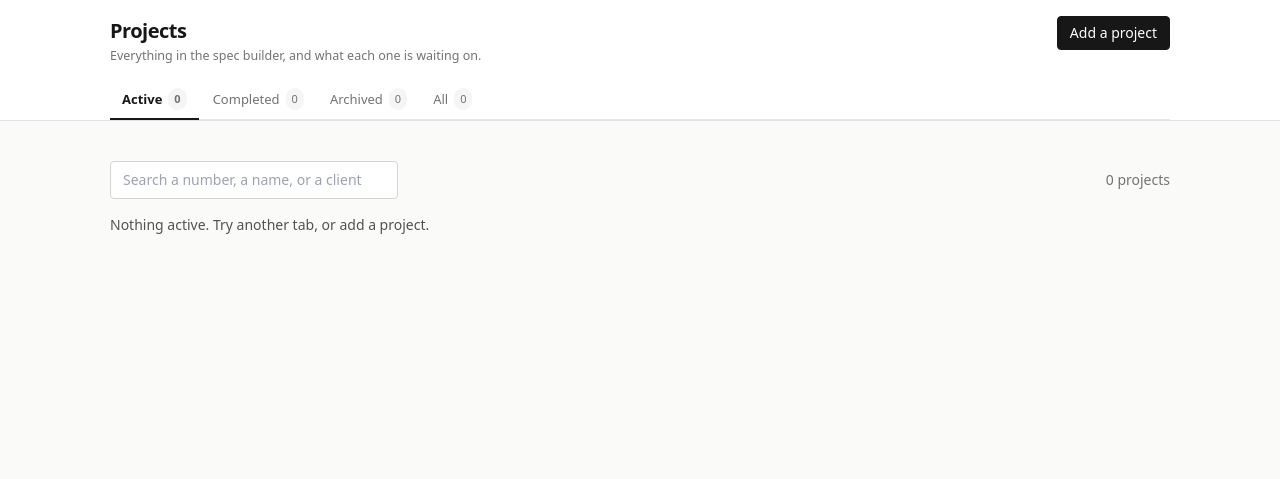
Scenario: Add project › stays, with the refusal in words and the form usable, when the project already exists
Click the button "Add a project".
click(1113, 33)  # box [1057,16,1170,50]
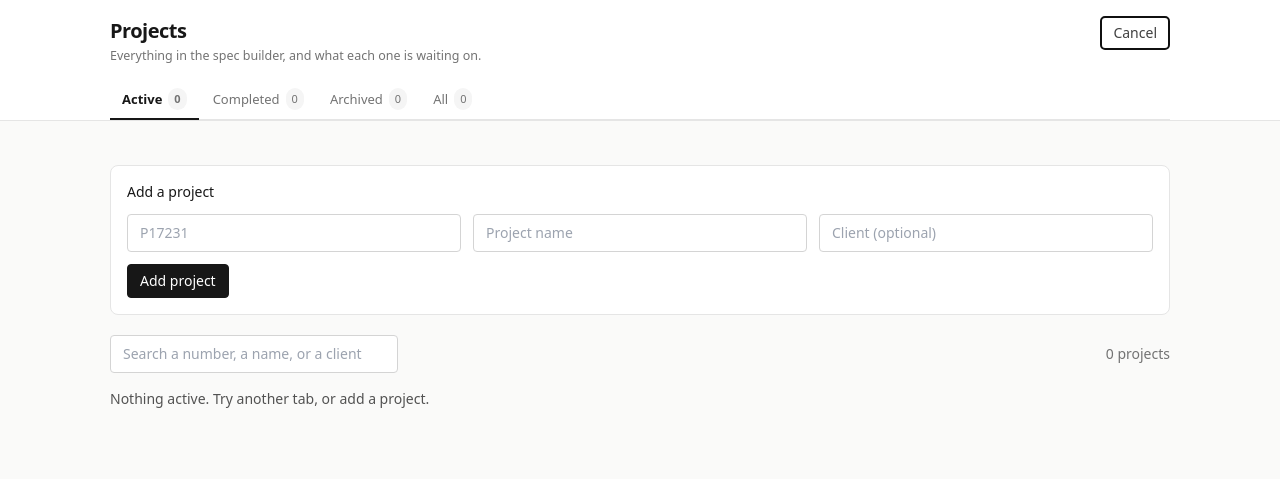
Type "P90300" into the field named "BWS project number".
click(294, 233); type("P90300")  # box [127,214,461,252]
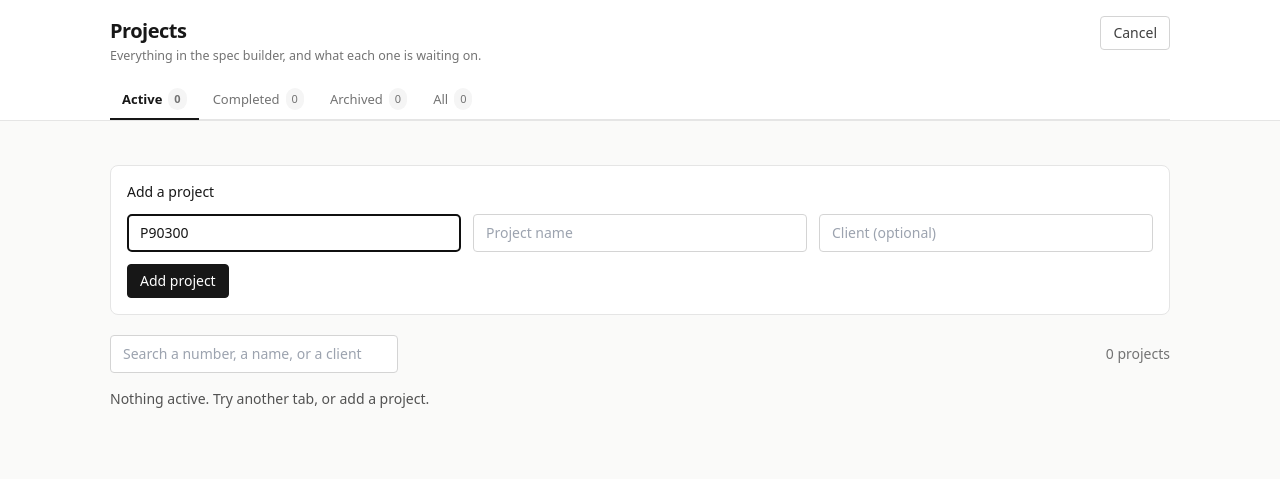
Type "Invented hotel" into the field labelled "Project name".
click(640, 233); type("Invented hotel")  # box [473,214,807,252]
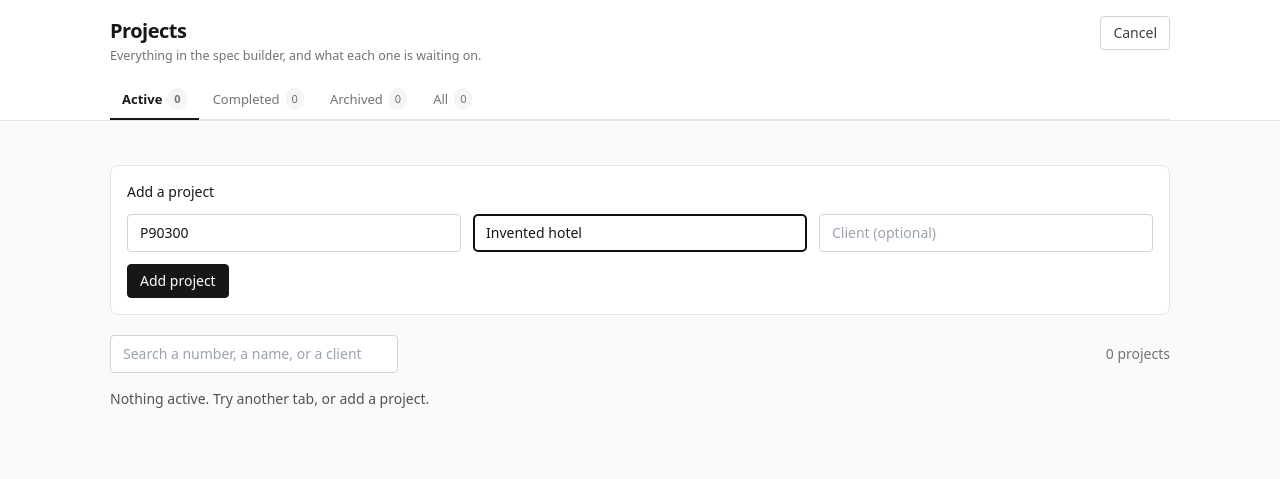
Click the button "Add project".
click(178, 281)  # box [127,264,229,298]
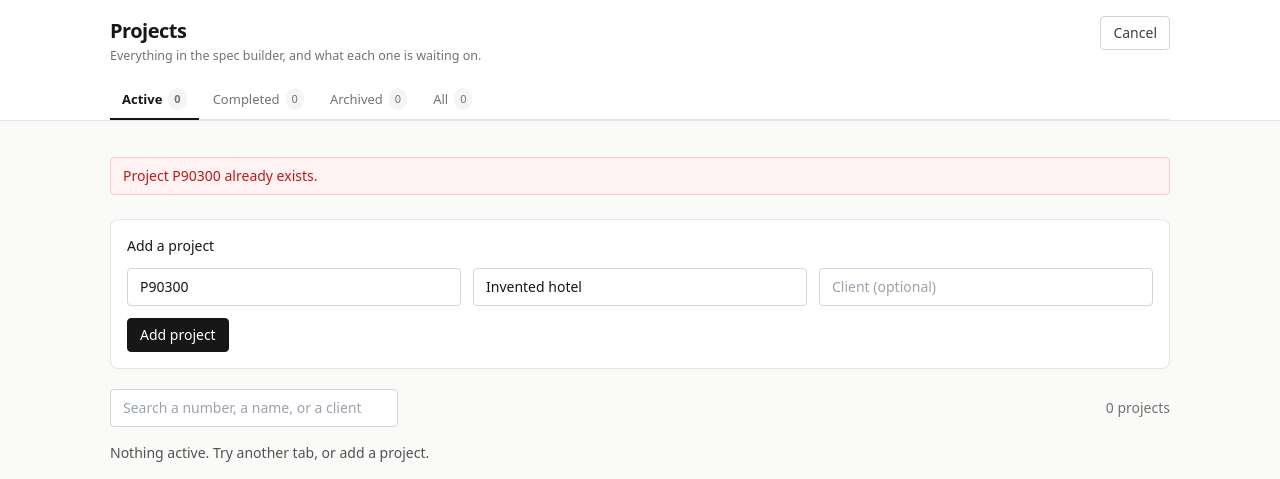
Check: the button "Add project" is enabled, box [127,318,229,352]
Check: the text "Project P90300 already exists." is shown, box [110,157,1170,195]
